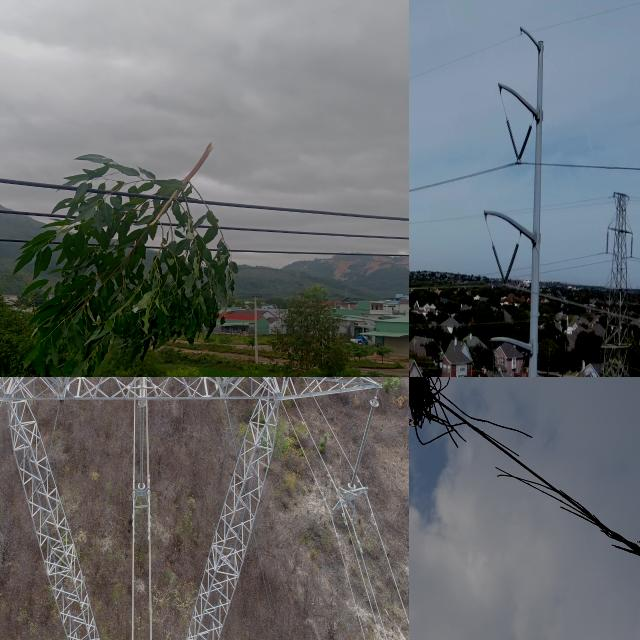杆塔: (0, 377, 382, 640), (576, 180, 640, 377)
植被遮挡: (0, 134, 256, 377)
正常绝缘子: (340, 378, 387, 509), (133, 377, 152, 498), (499, 108, 523, 171), (498, 237, 522, 299), (487, 230, 510, 294), (512, 118, 536, 172), (493, 350, 509, 377), (628, 229, 636, 263), (605, 223, 611, 258)
电缆破损: (409, 377, 640, 586)
